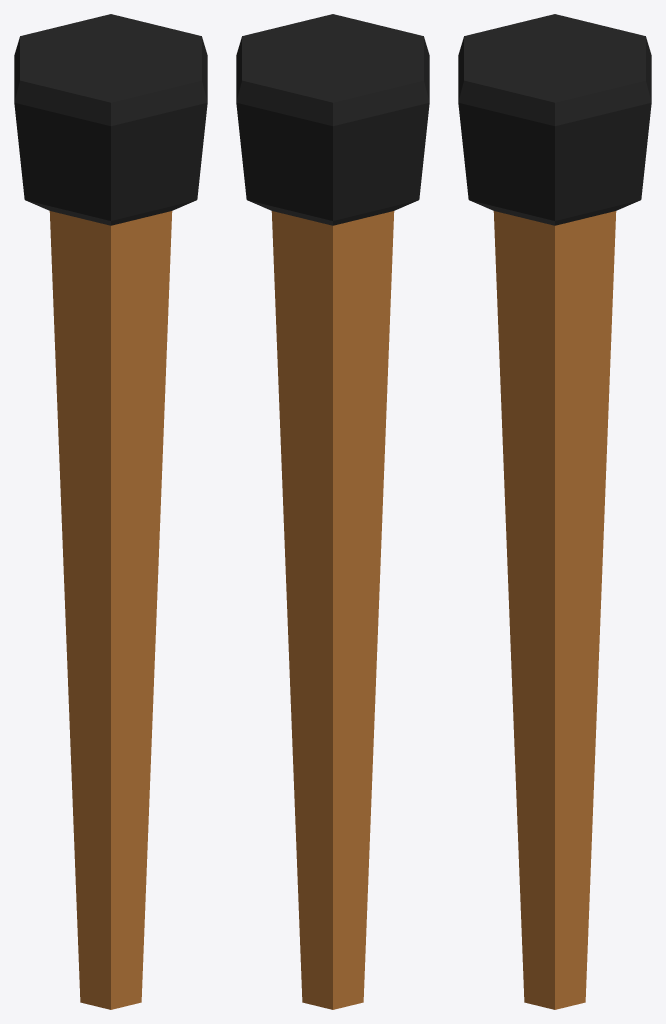
File: Prop_Gothic_Sconce_Timber_Torch_01.FBX
3 views of the same model, side by side, from view 1: azimuth 30°, elevation 25°; view 2: azimuth 150°, elevation 25°; view 3: azimuth 270°, elevation 25° (orthographic).
Parts seen in each view (by area): view 1: Prop_Gothic_Sconce_Timber_Torch_01; view 2: Prop_Gothic_Sconce_Timber_Torch_01; view 3: Prop_Gothic_Sconce_Timber_Torch_01.
Boxes of the visible parts, left/top/right/bottom form: Prop_Gothic_Sconce_Timber_Torch_01: left=14, top=14, right=207, bottom=1009; Prop_Gothic_Sconce_Timber_Torch_01: left=236, top=14, right=429, bottom=1009; Prop_Gothic_Sconce_Timber_Torch_01: left=458, top=14, right=651, bottom=1009.
Size of the model in its own units: 95.57 by 442 by 82.77.
